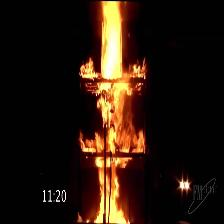fire: (92, 2, 128, 224)
